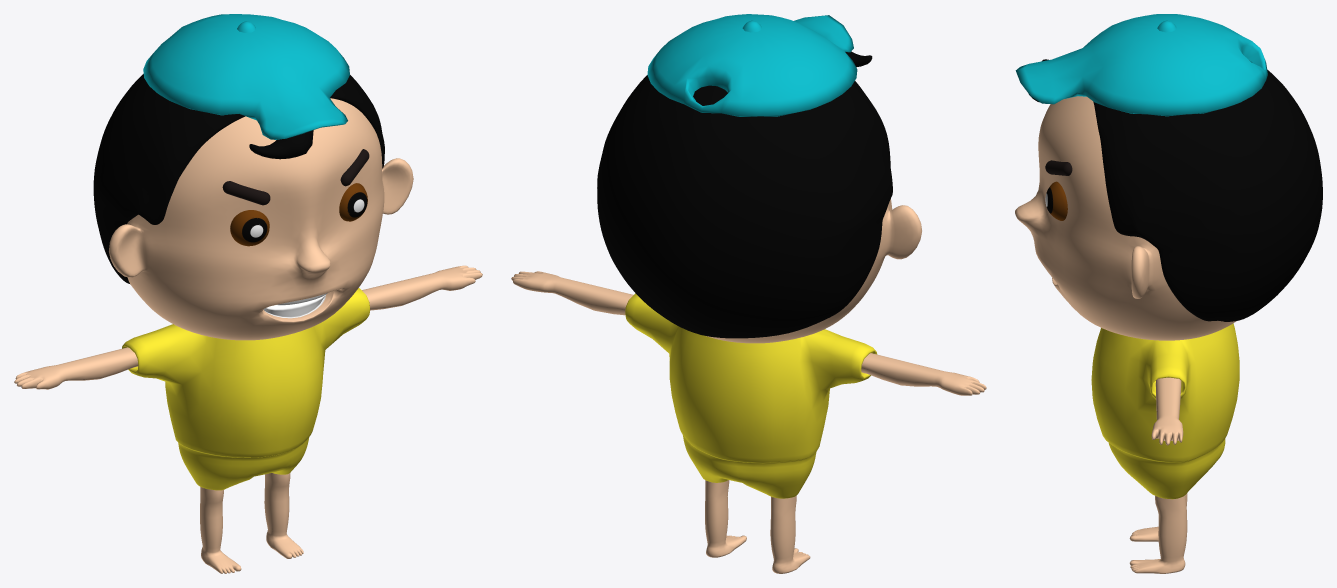
3 renders of one model, left to right at view 1: azimuth 30°, elevation 25°; view 2: azimuth 150°, elevation 25°; view 3: azimuth 270°, elevation 25°, orthographic.
Parts seen in each view (by area): view 1: Capsule001, Cylinder001, Sphere001, Capsule002, Capsule018, Capsule015, Capsule009, Capsule008, OilTank001, Cylinder002, OilTank002, Capsule003; view 2: Capsule002, Cylinder001, Sphere001, Capsule001, Capsule018, Capsule015, Capsule008, Capsule009; view 3: Capsule002, Capsule001, Cylinder001, Sphere001, Capsule009, Capsule015, OilTank002, Capsule008.
Boxes of the visible parts, left/top/right/bottom form: Capsule001: left=109, top=98, right=413, bottom=340; Cylinder001: left=122, top=288, right=370, bottom=490; Sphere001: left=143, top=14, right=349, bottom=139; Capsule002: left=93, top=74, right=384, bottom=283; Capsule018: left=14, top=347, right=138, bottom=389; Capsule015: left=362, top=265, right=482, bottom=310; Capsule009: left=264, top=473, right=303, bottom=558; Capsule008: left=200, top=487, right=241, bottom=573; OilTank001: left=230, top=210, right=269, bottom=246; Cylinder002: left=249, top=130, right=313, bottom=159; OilTank002: left=339, top=183, right=367, bottom=221; Capsule003: left=222, top=181, right=270, bottom=205; Capsule002: left=597, top=75, right=892, bottom=338; Cylinder001: left=625, top=293, right=877, bottom=498; Sphere001: left=647, top=14, right=857, bottom=116; Capsule001: left=706, top=199, right=921, bottom=343; Capsule018: left=861, top=353, right=986, bottom=395; Capsule015: left=511, top=271, right=633, bottom=315; Capsule008: left=770, top=496, right=810, bottom=573; Capsule009: left=705, top=480, right=746, bottom=557; Capsule002: left=1093, top=61, right=1322, bottom=321; Capsule001: left=1015, top=96, right=1236, bottom=340; Cylinder001: left=1091, top=323, right=1239, bottom=499; Sphere001: left=1015, top=14, right=1267, bottom=116; Capsule009: left=1129, top=495, right=1187, bottom=573; Capsule015: left=1151, top=377, right=1183, bottom=445; OilTank002: left=1045, top=181, right=1067, bottom=220; Capsule008: left=1129, top=493, right=1187, bottom=541.
Size of the model in its own units: 114 by 124 by 65.1.
Materials: 8 (5 with a texture image).
